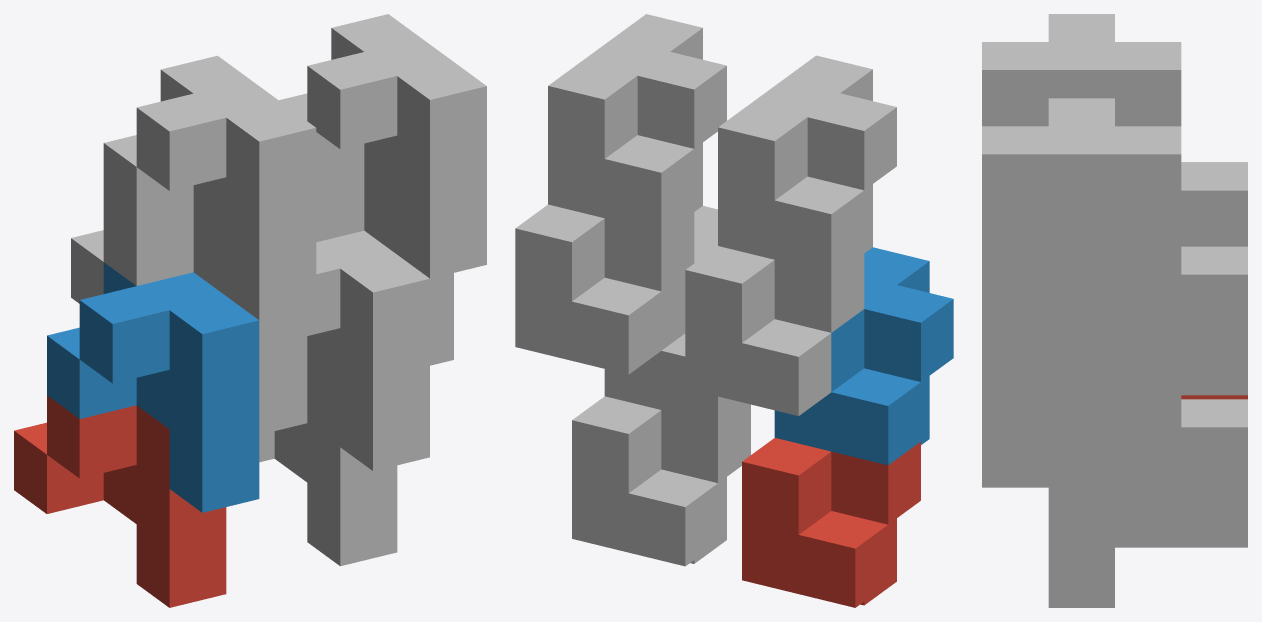
Rendered from tiling.obj.
3 renders of one model, left to right at view 1: azimuth 30°, elevation 25°; view 2: azimuth 150°, elevation 25°; view 3: azimuth 270°, elevation 25°, orthographic.
Parts seen in each view (by area): view 1: copy_1_domain_4, copy_1_domain_2, copy_1_domain_8, copy_1_domain_6, copy_1_domain_1, copy_1_domain_5, copy_1_domain_3, copy_1_domain_7; view 2: copy_1_domain_4, copy_1_domain_8, copy_1_domain_1, copy_1_domain_5, copy_1_domain_3, copy_1_domain_7, copy_1_domain_2, copy_1_domain_6; view 3: copy_1_domain_8, copy_1_domain_7, copy_1_domain_5, copy_1_domain_4, copy_1_domain_6, copy_1_domain_3.
Part boxes in pixels (left/top/right/bottom): copy_1_domain_4: left=103, top=55, right=316, bottom=320; copy_1_domain_2: left=47, top=262, right=259, bottom=512; copy_1_domain_8: left=279, top=14, right=486, bottom=278; copy_1_domain_6: left=283, top=230, right=429, bottom=471; copy_1_domain_1: left=14, top=395, right=226, bottom=607; copy_1_domain_5: left=259, top=363, right=397, bottom=566; copy_1_domain_3: left=71, top=203, right=283, bottom=407; copy_1_domain_7: left=316, top=171, right=453, bottom=365; copy_1_domain_4: left=718, top=55, right=896, bottom=273; copy_1_domain_8: left=548, top=14, right=726, bottom=231; copy_1_domain_1: left=742, top=438, right=920, bottom=607; copy_1_domain_5: left=572, top=396, right=750, bottom=566; copy_1_domain_3: left=685, top=246, right=864, bottom=415; copy_1_domain_7: left=515, top=204, right=694, bottom=374; copy_1_domain_2: left=774, top=247, right=953, bottom=465; copy_1_domain_6: left=604, top=206, right=745, bottom=423; copy_1_domain_8: left=982, top=98, right=1181, bottom=334; copy_1_domain_7: left=1048, top=246, right=1247, bottom=455; copy_1_domain_5: left=1048, top=399, right=1247, bottom=607; copy_1_domain_4: left=982, top=14, right=1181, bottom=126; copy_1_domain_6: left=982, top=335, right=1181, bottom=487; copy_1_domain_3: left=1181, top=162, right=1247, bottom=246.
Bounding box in the file's own units: 6 × 8 × 4.
